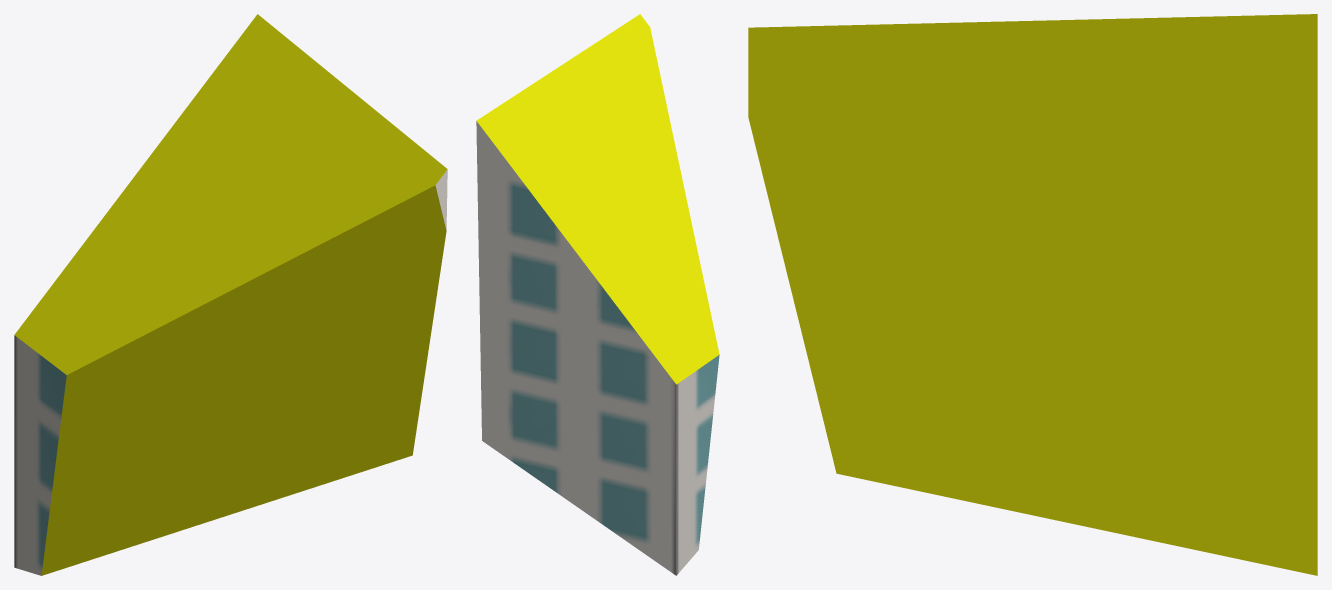
File: paShard4.fbx
3 views of the same model, side by side, from view 1: azimuth 30°, elevation 25°; view 2: azimuth 150°, elevation 25°; view 3: azimuth 270°, elevation 25° (orthographic). The views are drawn at different scales.
Visible parts, largest first — view 1: shard17; view 2: shard17; view 3: shard17.
Part boxes in pixels (x1,y1,x2,y2): shard17: (14,14,447,575); shard17: (476,14,719,575); shard17: (748,14,1317,575).
Bounding box in the file's own units: 0.0661 × 0.1284 × 0.0917.
2 materials, 1 textured.
